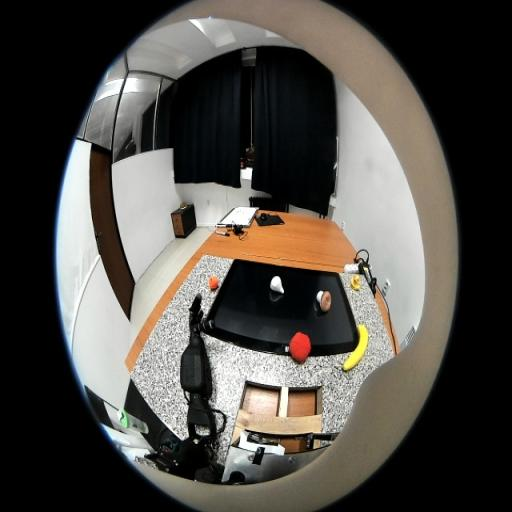Banana: (343, 324, 368, 370)
Duck: (351, 275, 360, 291)
LeftHand: (190, 314, 200, 335)
Mushroom: (316, 290, 332, 312)
Onion: (270, 276, 284, 294)
Orange: (209, 276, 218, 290)
Tomato: (289, 330, 311, 362)
